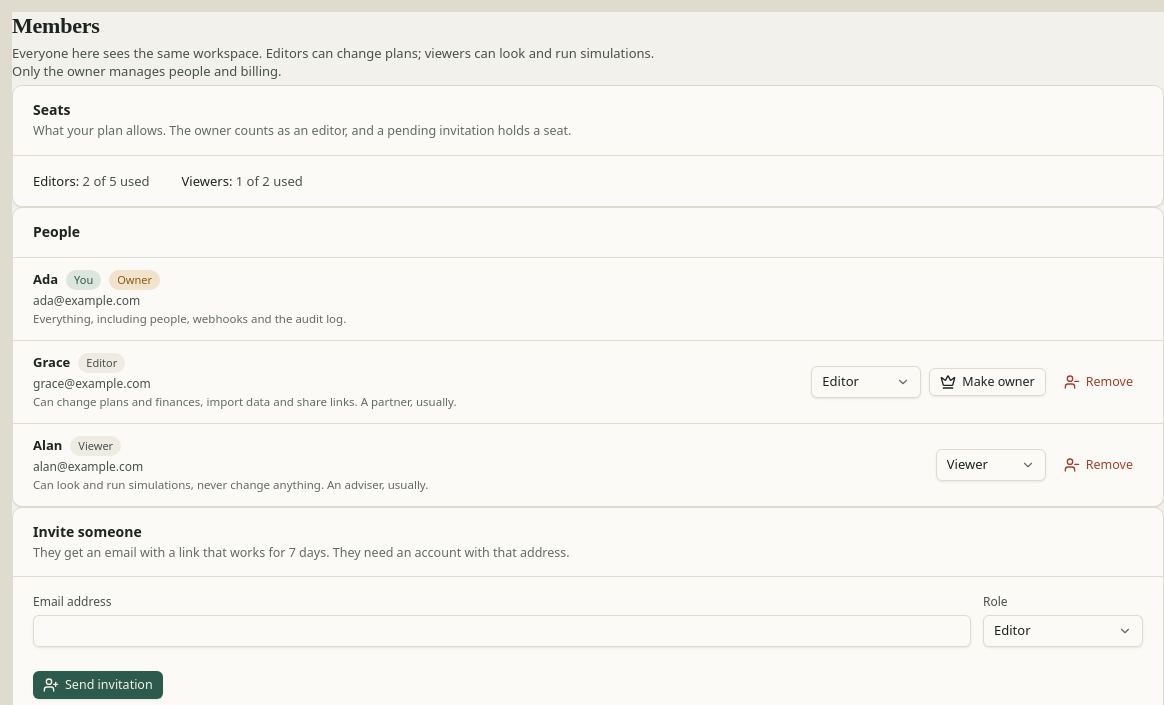
Test: members and invitations › sends the invitation when there is room, and tells the person
The width and height of the screenshot is (1164, 705).
Expected: the text "Grace" is shown, [33,353,70,371]
Type "new@example.com" into the field labelled "Email address" at x=502, y=631, box [33,615,971,647]
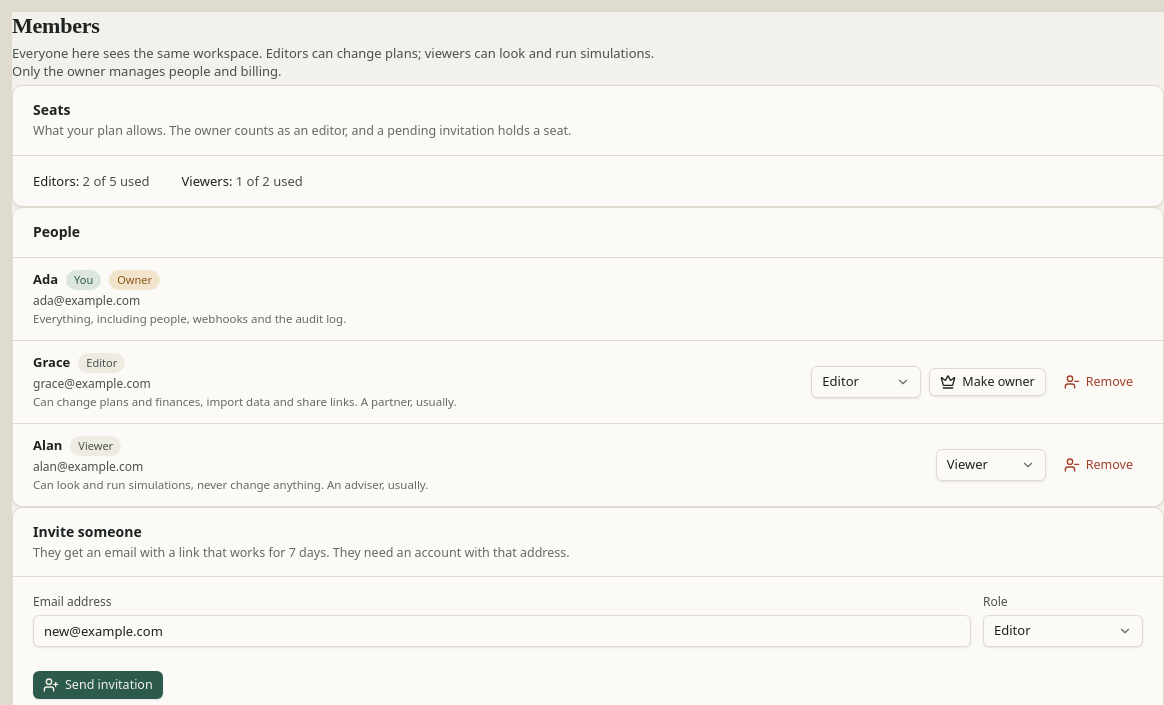
Click the button "Send invitation" at x=98, y=685, box [33,671,163,699]
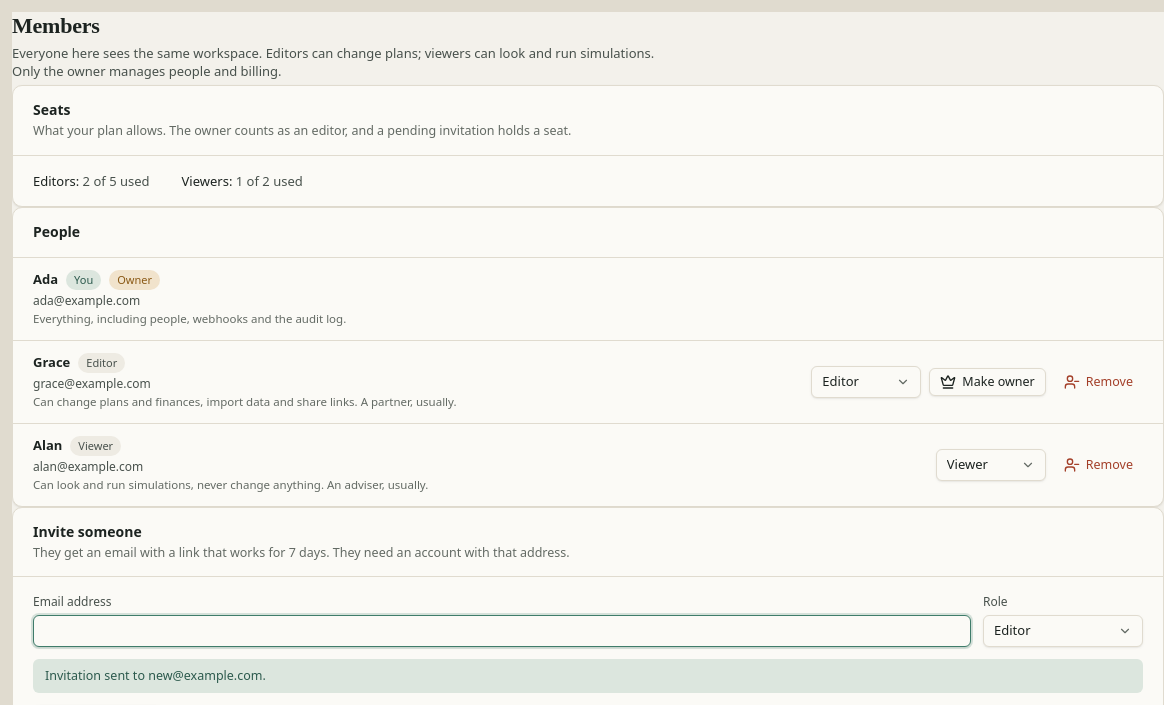
Expected: the text "Invitation sent to new@example.com." is shown, [33,659,1143,693]
